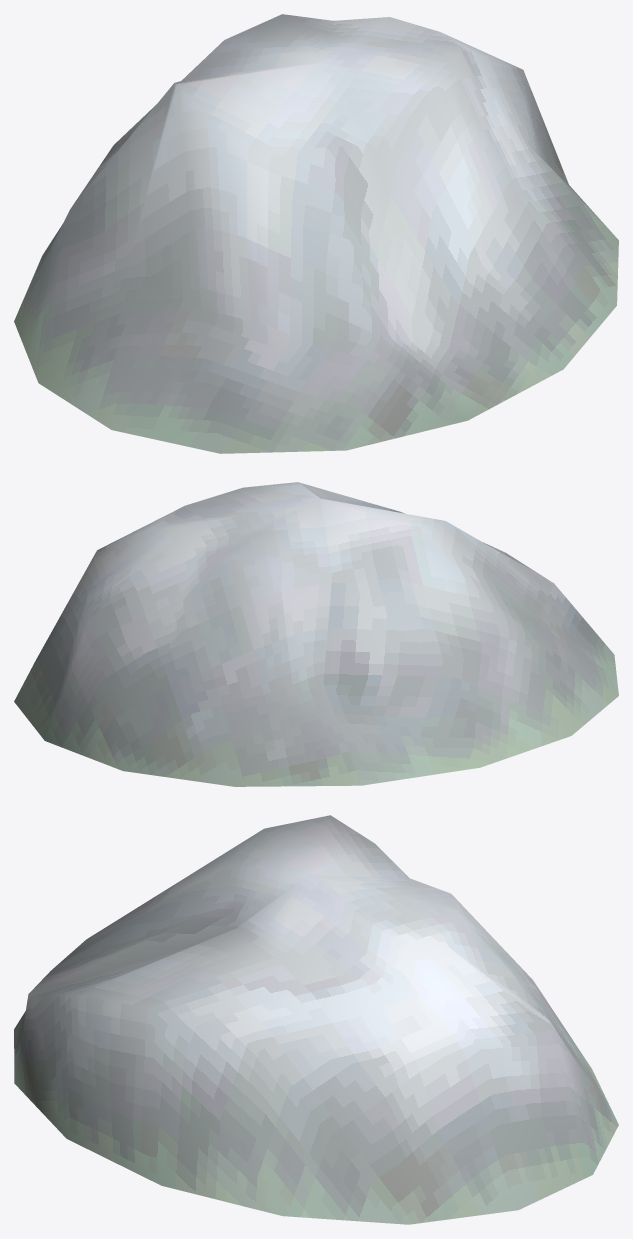
The model's file is TROLLHOLE02_STONEA18.fbx.
3 views of the same model, one above another, from view 1: azimuth 30°, elevation 25°; view 2: azimuth 150°, elevation 25°; view 3: azimuth 270°, elevation 25° (orthographic). The views are drawn at different scales.
Visible parts, largest first — view 1: TROLLHOLE02_STONEA18; view 2: TROLLHOLE02_STONEA18; view 3: TROLLHOLE02_STONEA18.
Part boxes in pixels (x1,y1,x2,y2): TROLLHOLE02_STONEA18: (14,14,618,453); TROLLHOLE02_STONEA18: (14,482,618,786); TROLLHOLE02_STONEA18: (14,815,618,1224).
Bounding box in the file's own units: 15980 × 6023 × 15275.
1 material, 1 textured.
